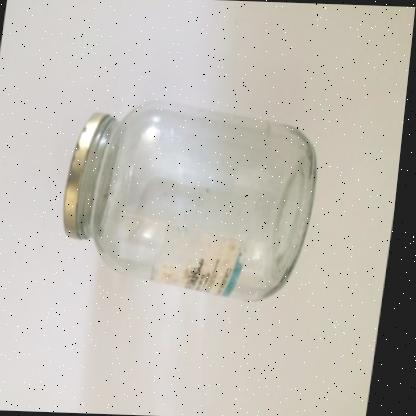Glass: (67, 101, 320, 301)
